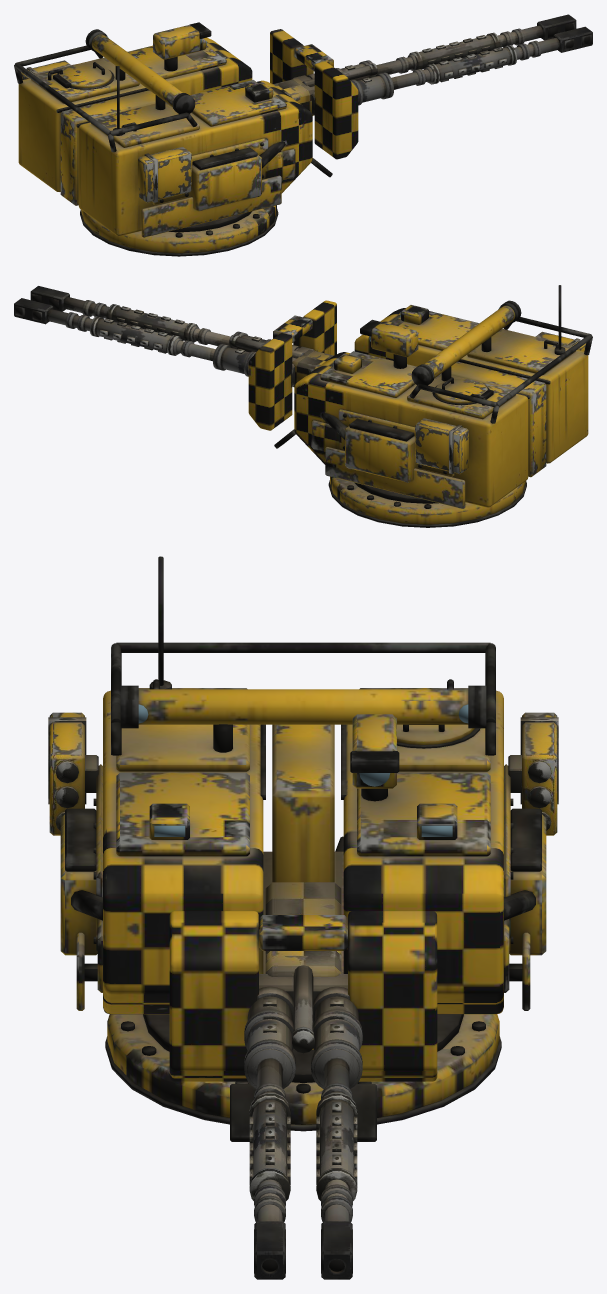
Rendered from turret_kit_t3_chequer.glb.
The picture shows the model from 3 angles, top to bottom: view 1: azimuth 30°, elevation 25°; view 2: azimuth 150°, elevation 25°; view 3: azimuth 270°, elevation 25°; orthographic projection. The views are drawn at different scales.
Visible parts, largest first — view 1: turret_twin_t3, guns, pods; view 2: turret_twin_t3, guns, pods; view 3: turret_twin_t3, guns, pods.
Part boxes in pixels (box(x1,y1,x2,y2)): turret_twin_t3: box(14, 22, 358, 256); guns: box(273, 14, 592, 115); pods: box(21, 60, 191, 202); turret_twin_t3: box(248, 285, 592, 527); guns: box(14, 286, 333, 387); pods: box(415, 331, 586, 474); turret_twin_t3: box(60, 556, 546, 1141); guns: box(244, 882, 362, 1279); pods: box(48, 712, 558, 835).
Bounding box in the file's own units: 2.7 × 0.98 × 1.15.
Materials: 4 (3 with a texture image).
